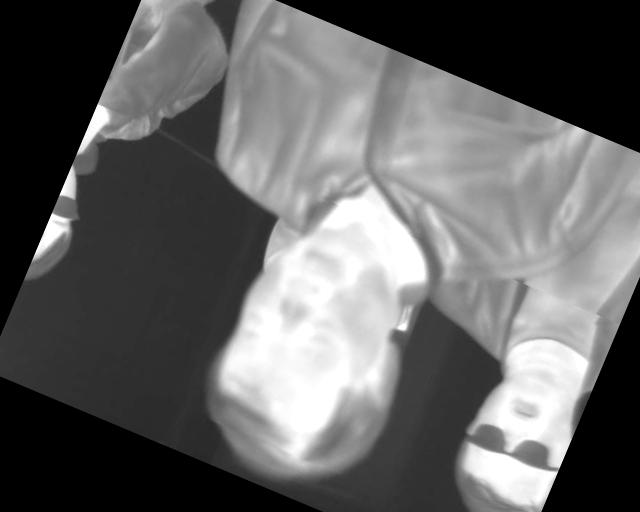face: (177, 195, 451, 511), (429, 353, 590, 512)
